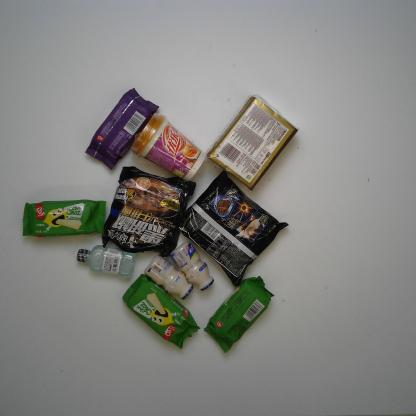Dessert: (84, 85, 162, 173), (122, 272, 199, 352), (204, 275, 274, 354), (20, 198, 108, 238)
Instant Drink: (130, 111, 207, 183)
Instant Noodles: (183, 168, 290, 289), (102, 165, 197, 261)
Milk: (144, 254, 194, 300), (170, 240, 214, 291)
Personal Hygiene: (76, 244, 136, 279)
Tissue: (204, 91, 298, 193)
